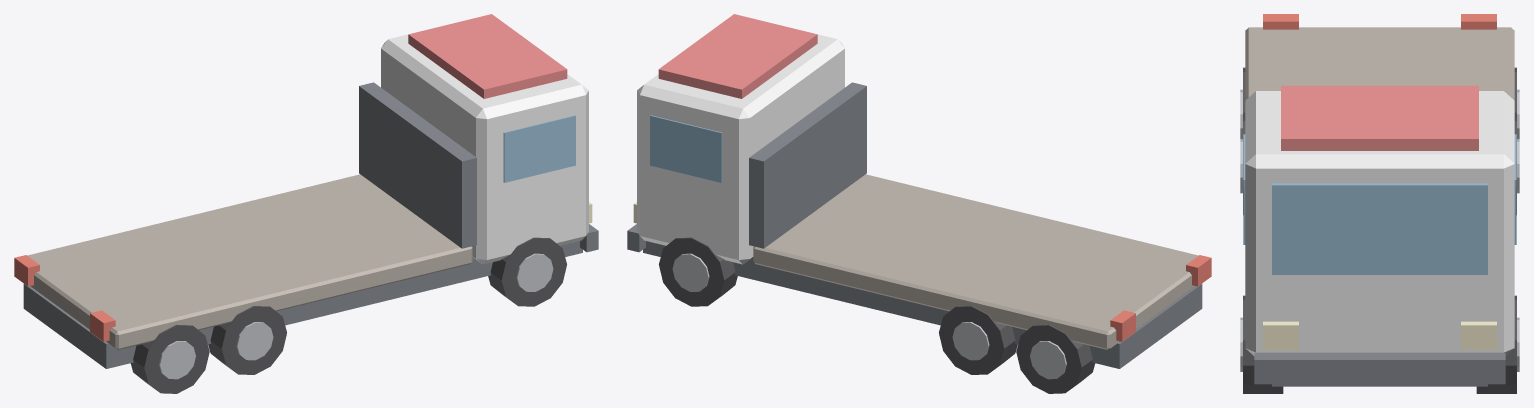
The model's file is Truck.fbx.
3 renders of one model, left to right at view 1: azimuth 30°, elevation 25°; view 2: azimuth 150°, elevation 25°; view 3: azimuth 270°, elevation 25°, orthographic. The views are drawn at different scales.
Visible parts, largest first — view 1: Truck; view 2: Truck; view 3: Truck.
Part boxes in pixels (x1,y1,x2,y2): Truck: (14,14,598,393); Truck: (627,14,1211,393); Truck: (1240,14,1519,393).
Size of the model in its own units: 0.825 by 0.345 by 0.311.
